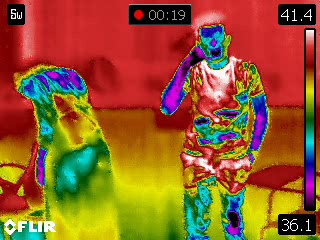human: (160, 21, 272, 240), (16, 59, 114, 222)
